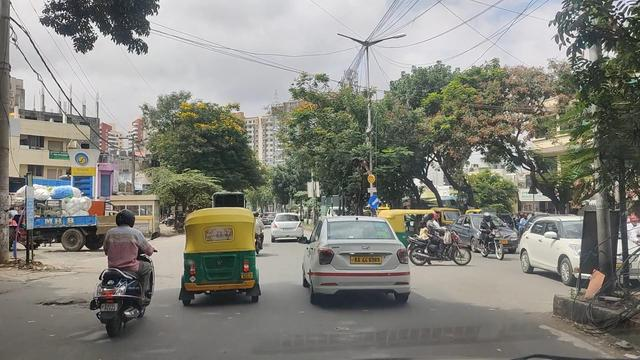LMV: (305, 221, 412, 307), (91, 207, 152, 356), (177, 209, 264, 311)
RoadDamages: (41, 287, 99, 324)
